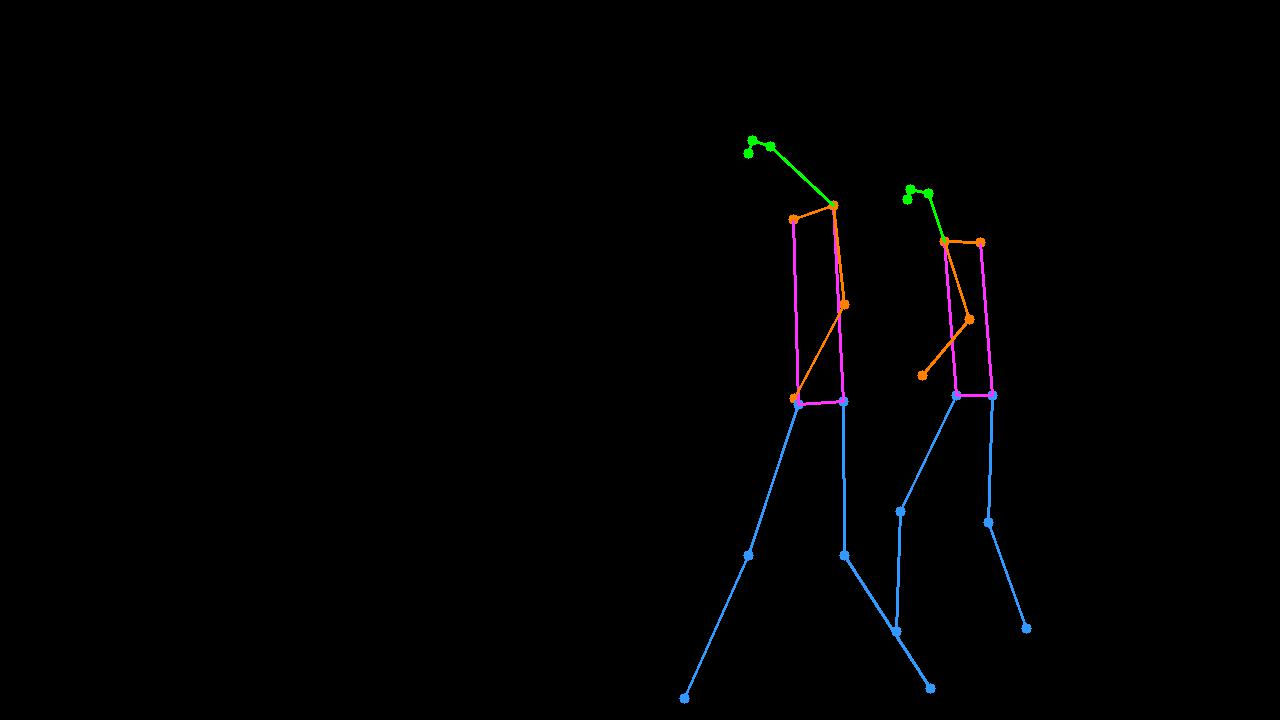normal: (659, 92, 925, 709), (891, 158, 1051, 648)
